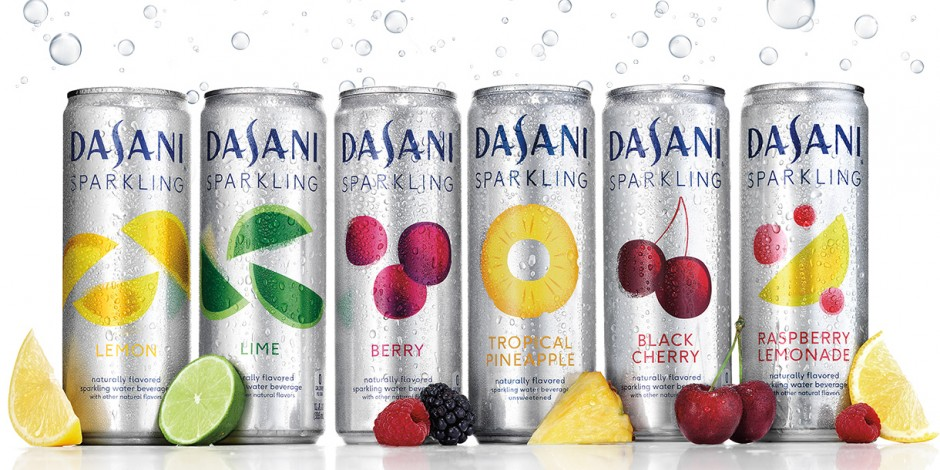blackcherry: (606, 194, 717, 370)
lemon: (62, 193, 192, 359)
lemonade: (743, 198, 854, 363)
lime: (200, 199, 326, 357)
pineapple: (469, 194, 589, 371)
